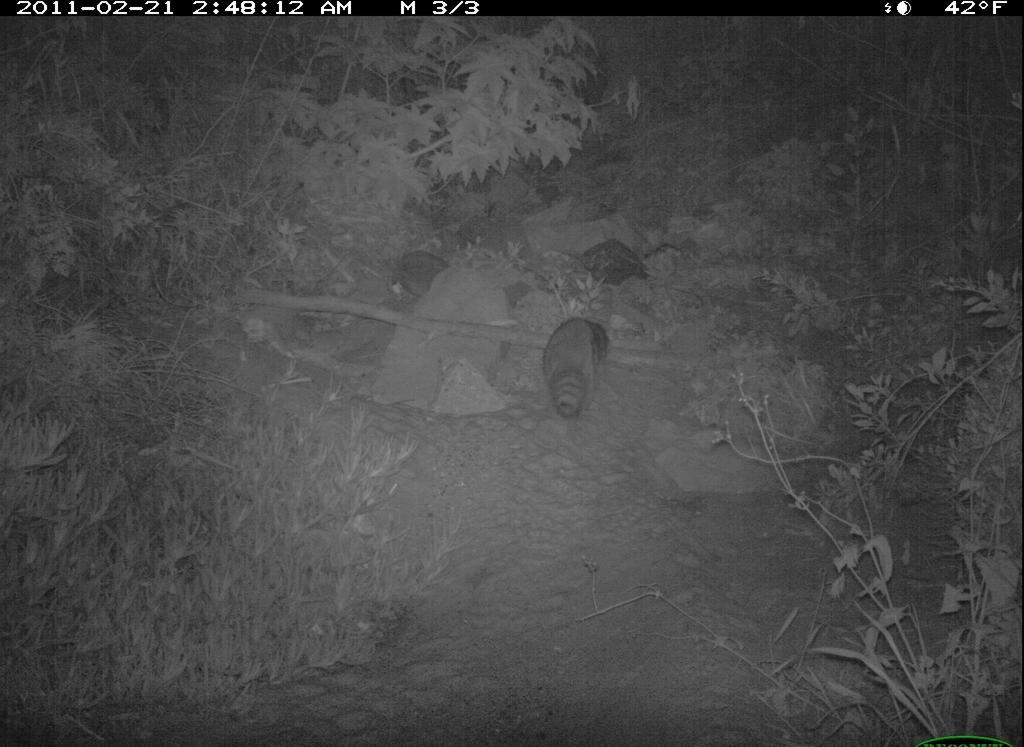raccoon: (537, 317, 614, 423)
